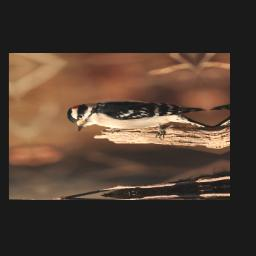Woodpecker: (60, 94, 213, 147)
